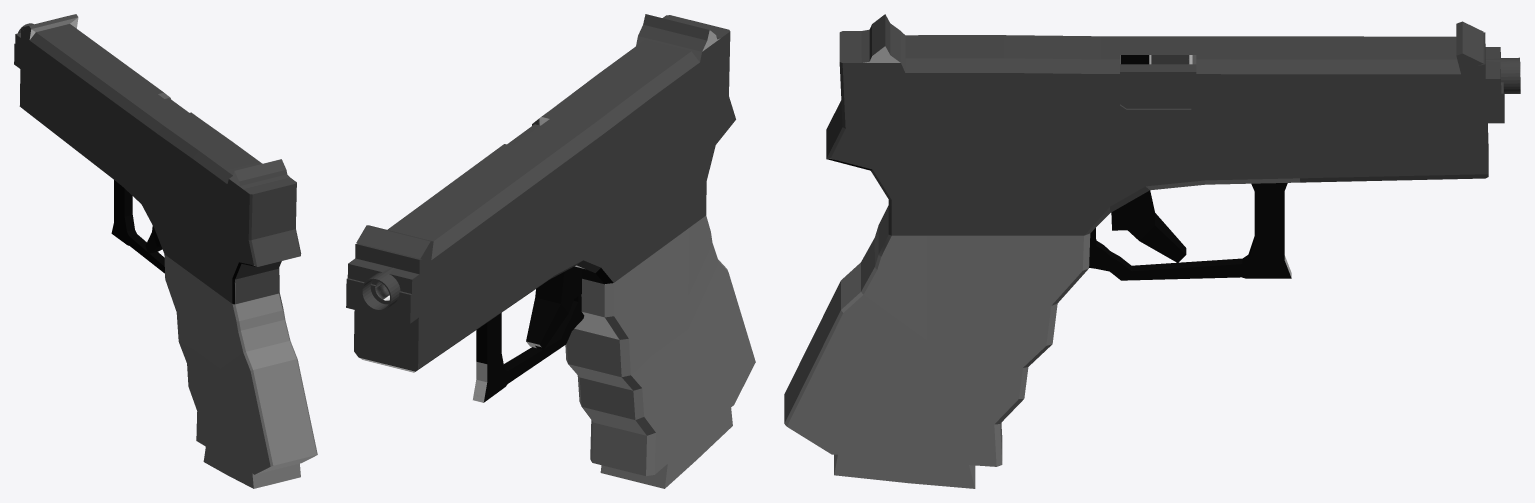
The model's file is glock19.glb.
The picture shows the model from 3 angles, left to right: view 1: azimuth 30°, elevation 25°; view 2: azimuth 150°, elevation 25°; view 3: azimuth 270°, elevation 25°; orthographic projection. The views are drawn at different scales.
Visible parts, largest first — view 1: Cylinder; view 2: Cylinder; view 3: Cylinder.
Boxes of the visible parts, x1,y1,x2,y2 form: Cylinder: (14, 14, 317, 488); Cylinder: (346, 14, 755, 488); Cylinder: (784, 14, 1520, 488).
Size of the model in its own units: 1.02 by 6.35 by 9.57.
1 material, 1 textured.
